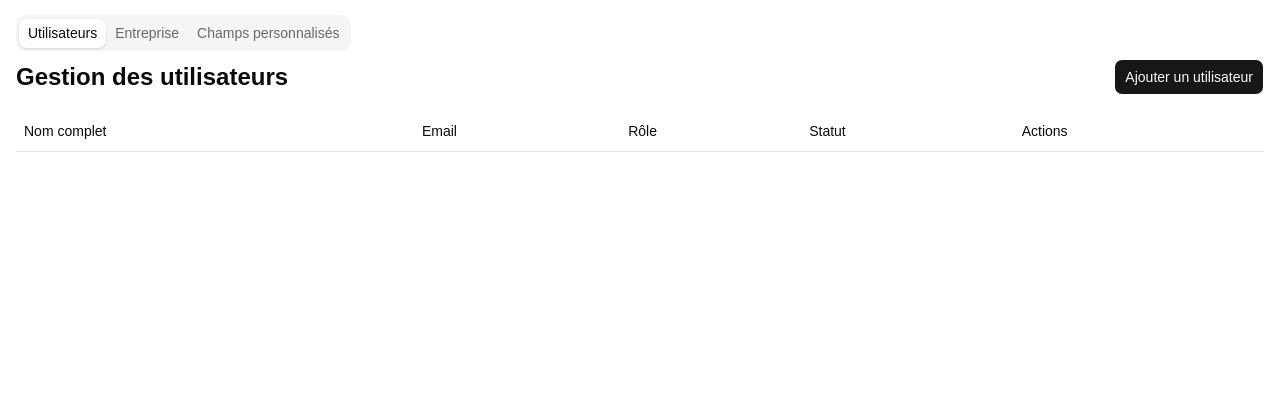
Test: AdminPage › switches to Champs personnalisés tab
The width and height of the screenshot is (1280, 413).
Click the tab "Champs personnalisés" at (268, 33), box [188, 18, 348, 48]
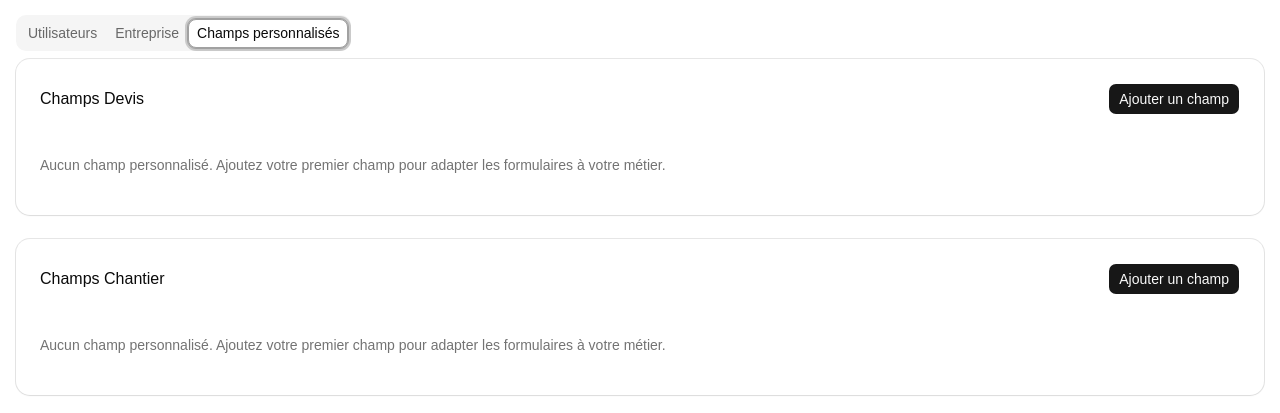
Result: the text "Champs Devis" is shown at [40, 87, 144, 111]
Result: the text "Champs Chantier" is shown at [40, 267, 164, 291]
